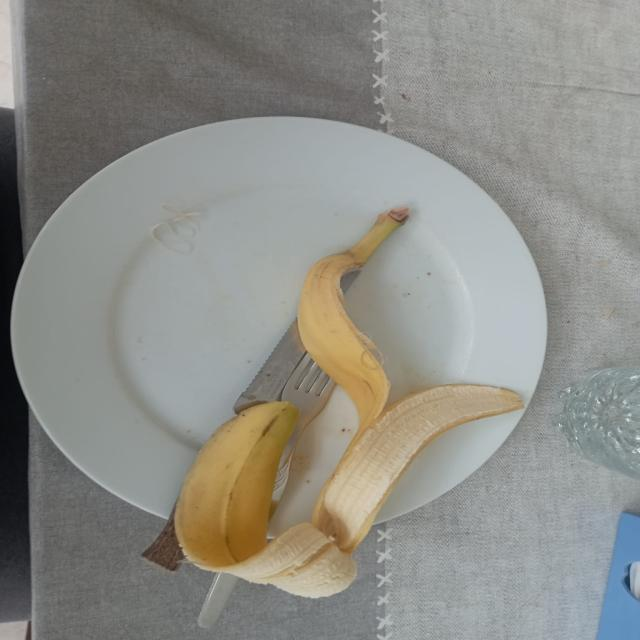cup: (552, 367, 640, 479)
fork: (272, 352, 335, 510), (198, 573, 239, 629)
garbage: (174, 208, 524, 597)
knife: (233, 321, 306, 413), (142, 507, 188, 571)
plate: (12, 117, 545, 598)
